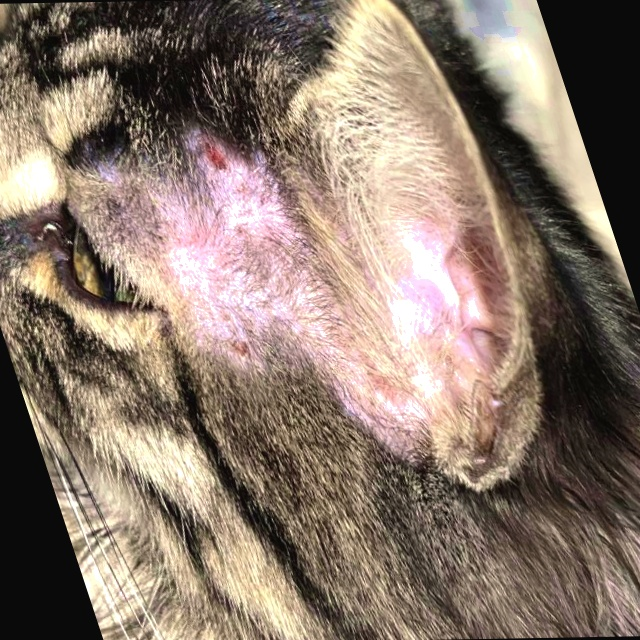ringworm: (129, 140, 345, 357)
